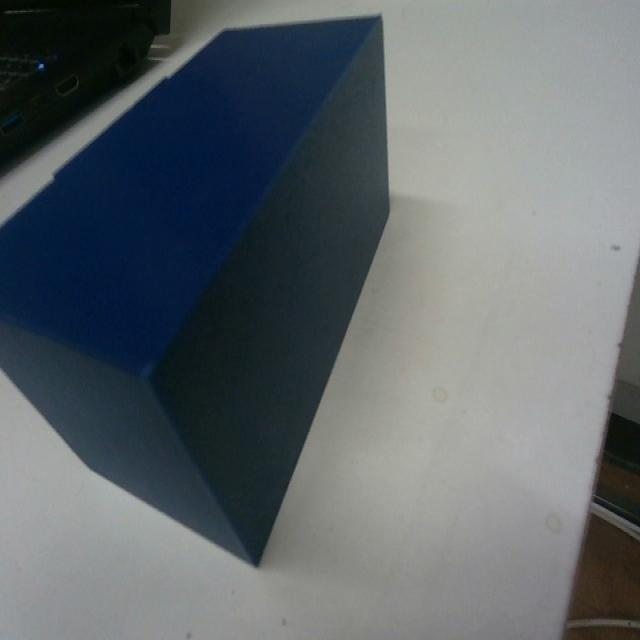Blue Cuboid: (0, 9, 392, 567)
